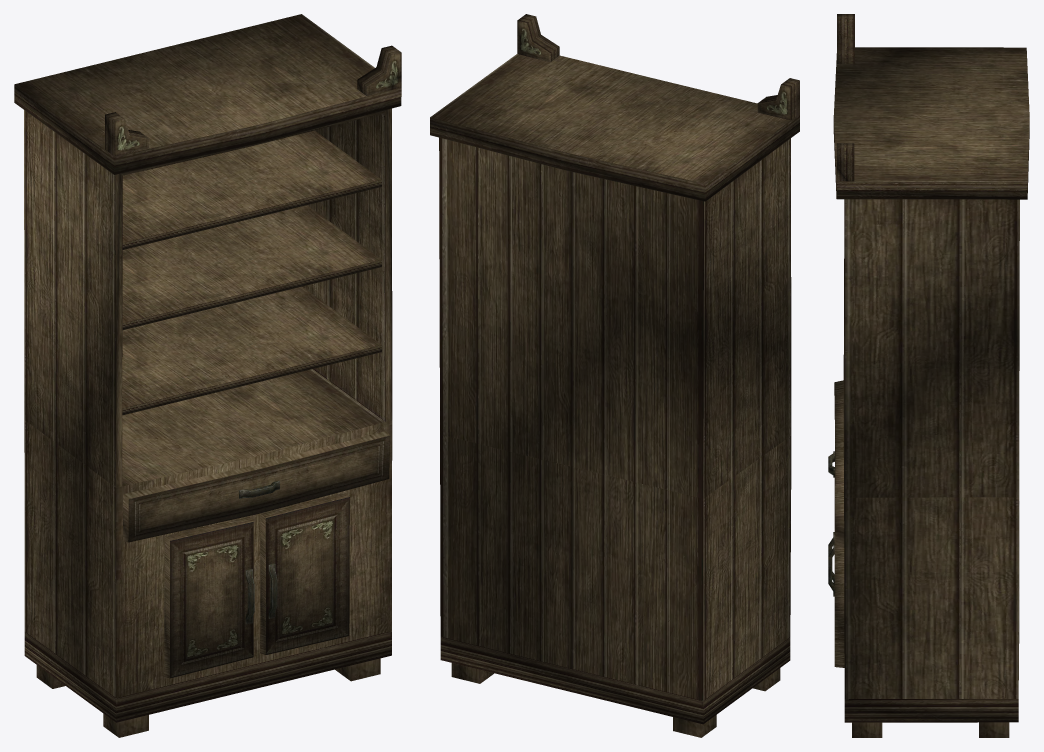
Rendered from GS_VOB_RICHSHELF_BROWN_01_KOZA.glb.
The picture shows the model from 3 angles, left to right: view 1: azimuth 30°, elevation 25°; view 2: azimuth 150°, elevation 25°; view 3: azimuth 270°, elevation 25°; orthographic projection. The views are drawn at different scales.
Visible parts, largest first — view 1: Mesh; view 2: Mesh; view 3: Mesh.
Part boxes in pixels (x1,y1,x2,y2): Mesh: (14,14,401,737); Mesh: (430,14,799,737); Mesh: (828,14,1029,737).
Size of the model in its own units: 1.48 by 3.08 by 0.9415.
Materials: 4 (4 with a texture image).
